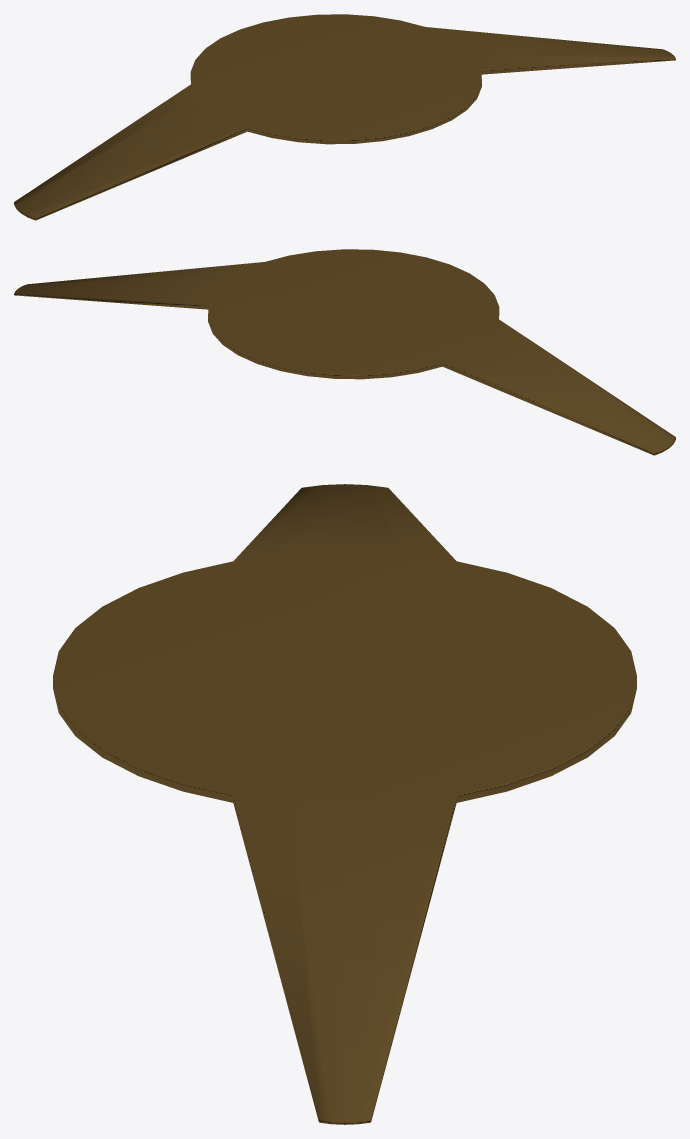
File: arenaBrigdeRopebottom.fbx
3 renders of one model, top to bottom at view 1: azimuth 30°, elevation 25°; view 2: azimuth 150°, elevation 25°; view 3: azimuth 270°, elevation 25°, orthographic. The views are drawn at different scales.
Parts seen in each view (by area): view 1: Ground; view 2: Ground; view 3: Ground.
Part boxes in pixels (x1,y1,x2,y2): Ground: (14,14,675,220); Ground: (14,249,675,455); Ground: (53,484,636,1124).
Size of the model in its own units: 48.03 by 4.31 by 18.66.
